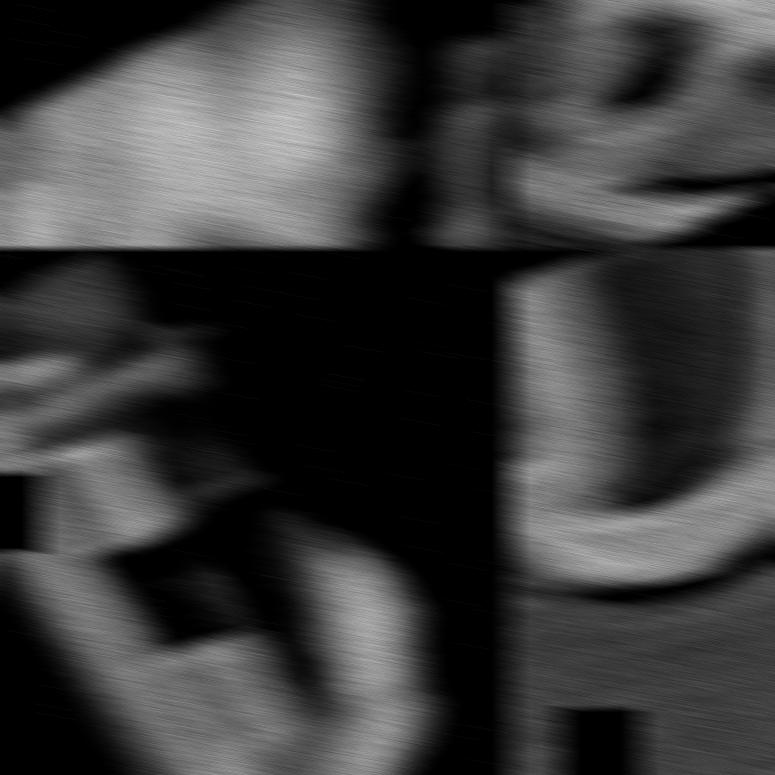Airbag: (0, 247, 515, 775), (506, 247, 775, 775), (0, 0, 515, 248), (506, 0, 775, 248)
